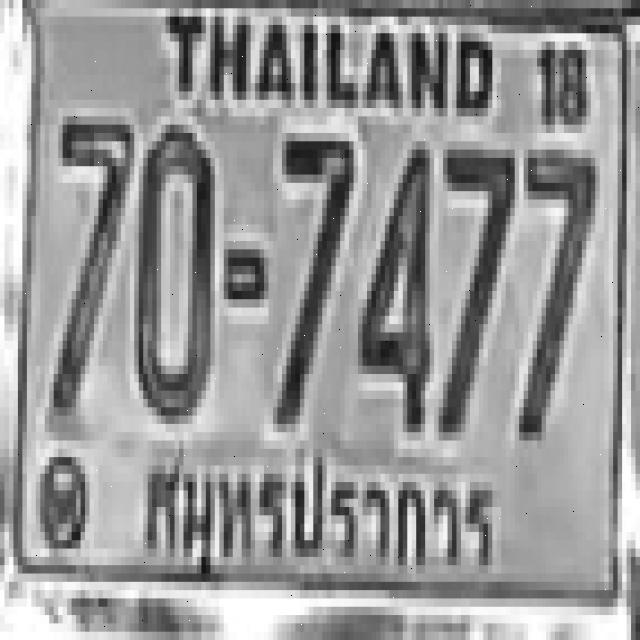0: (134, 117, 210, 416)
4: (354, 138, 426, 420)
7: (49, 108, 130, 407), (276, 124, 352, 416), (517, 142, 593, 432), (437, 142, 512, 424)
SamutPrakan: (140, 452, 493, 586)
